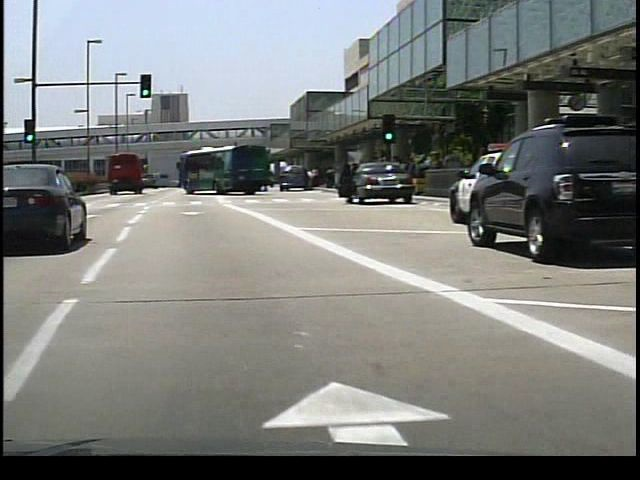person: (300, 167, 311, 191)
